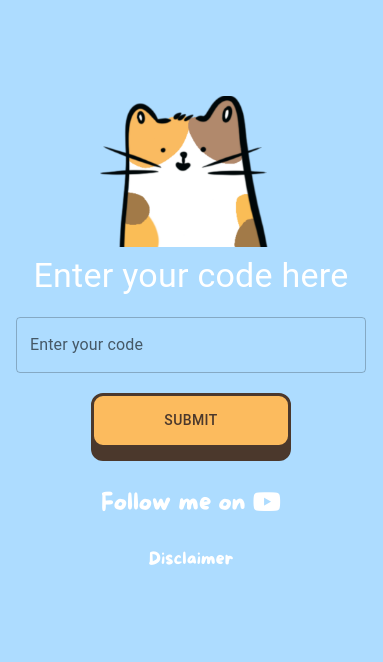
Scenario: HomePage › displays error message for invalid code
Type "INVALID" into the field at point(191, 345), box [16,317,366,373]
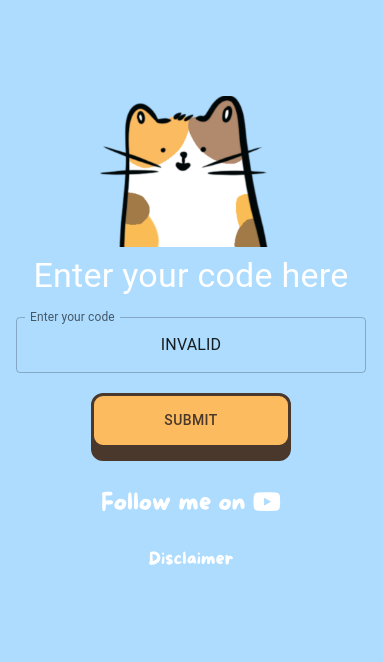
Click the button at point(191, 420), box [91,393,291,448]
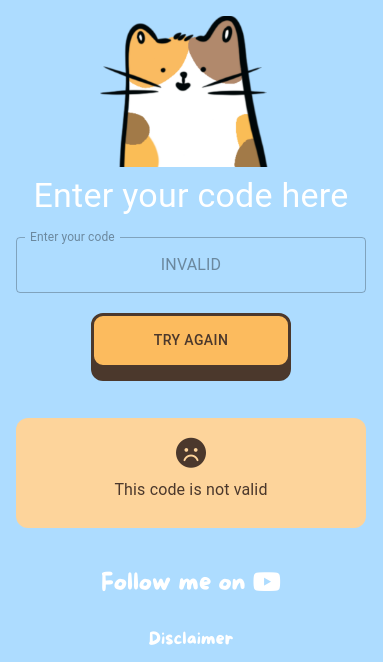
Now the text "This code is not valid" is shown, box [114,480,268,499]
